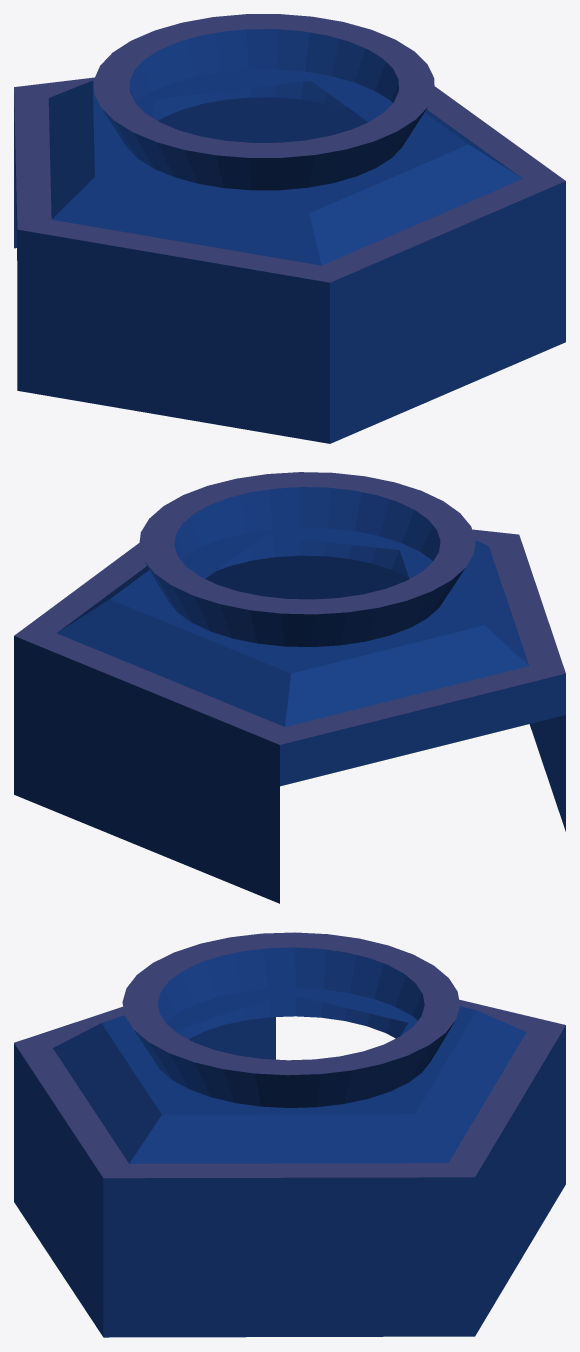
File: Ventilationsol03.fbx
3 renders of one model, top to bottom at view 1: azimuth 30°, elevation 25°; view 2: azimuth 150°, elevation 25°; view 3: azimuth 270°, elevation 25°, orthographic.
Visible parts, largest first — view 1: trou_ventilation.031; view 2: trou_ventilation.031; view 3: trou_ventilation.031.
Part boxes in pixels (x1,y1,x2,y2): trou_ventilation.031: (14,14,565,443); trou_ventilation.031: (14,472,565,903); trou_ventilation.031: (14,932,565,1337).
Size of the model in its own units: 39.54 by 19.42 by 41.5.
